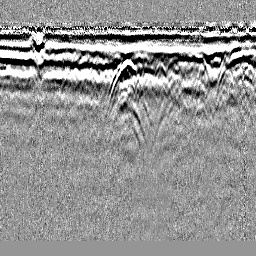cavity: (105, 55, 146, 116)
